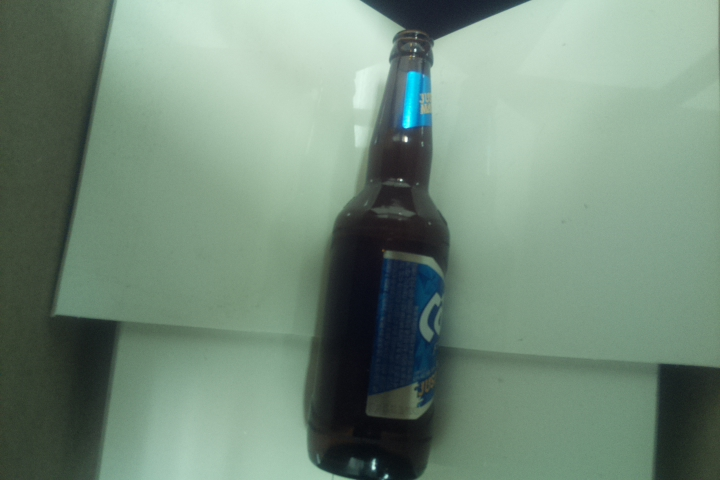makju: (304, 28, 453, 480)
